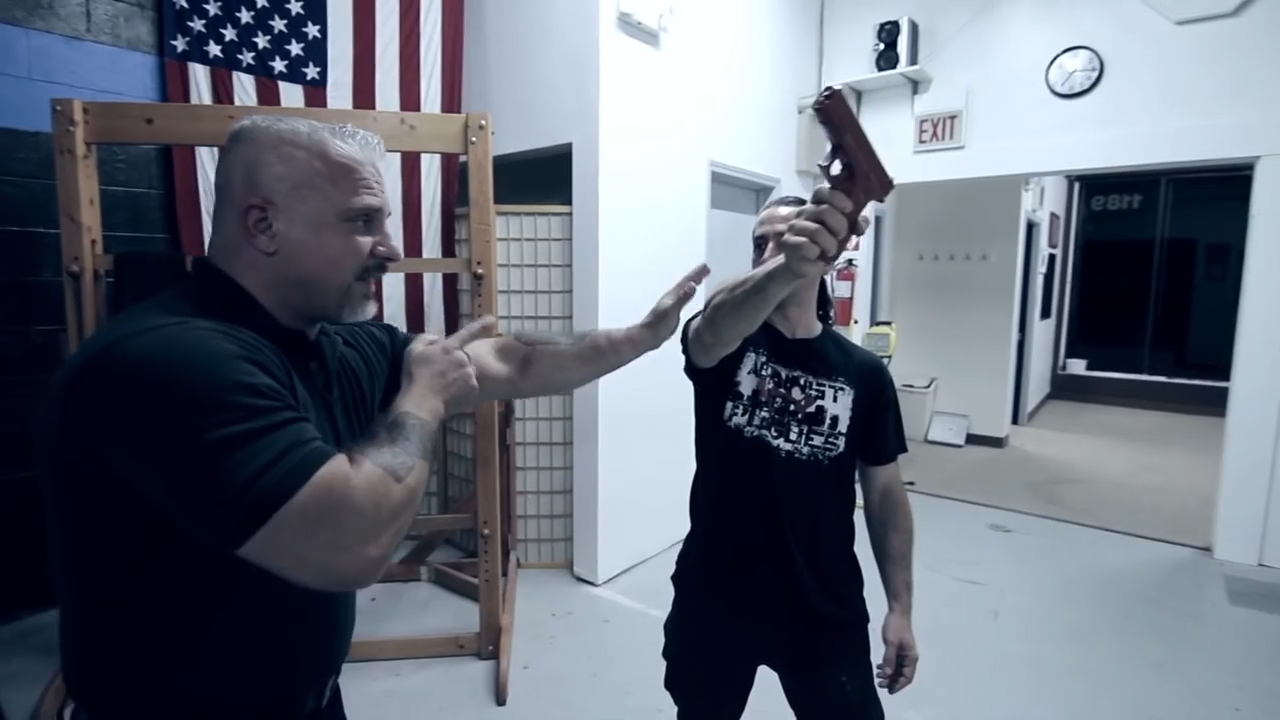pistol: (810, 84, 898, 266)
